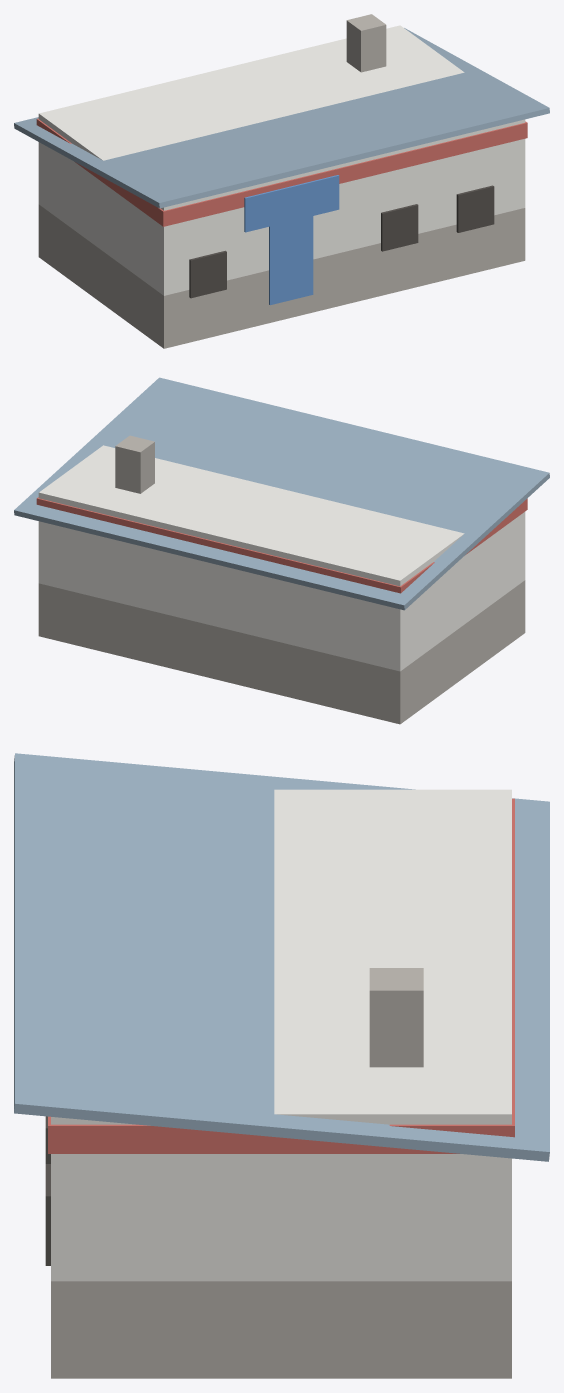
The picture shows the model from 3 angles, top to bottom: view 1: azimuth 30°, elevation 25°; view 2: azimuth 150°, elevation 25°; view 3: azimuth 270°, elevation 25°; orthographic projection. The views are drawn at different scales.
Parts seen in each view (by area): view 1: WB_daoban; view 2: WB_daoban; view 3: WB_daoban.
Boxes of the visible parts, x1=… form: WB_daoban: x1=14, y1=14, x2=549, y2=348; WB_daoban: x1=14, y1=377, x2=549, y2=724; WB_daoban: x1=14, y1=753, x2=549, y2=1378.
Size of the model in its own units: 10.8 by 4.9 by 6.98.
